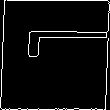L_E: (4, 39, 106, 71)
